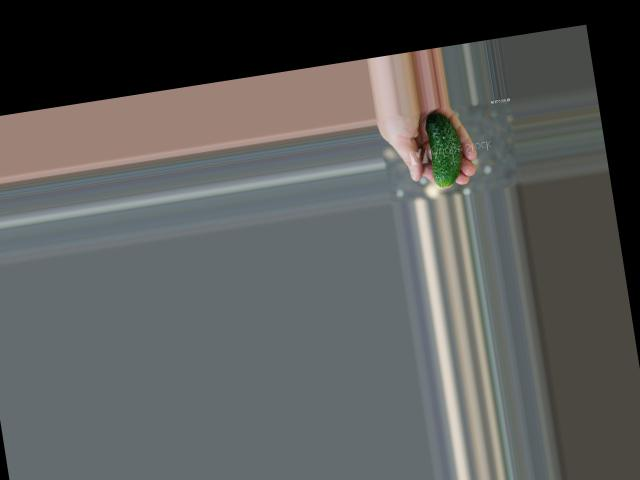cucumber: (424, 109, 467, 187)
